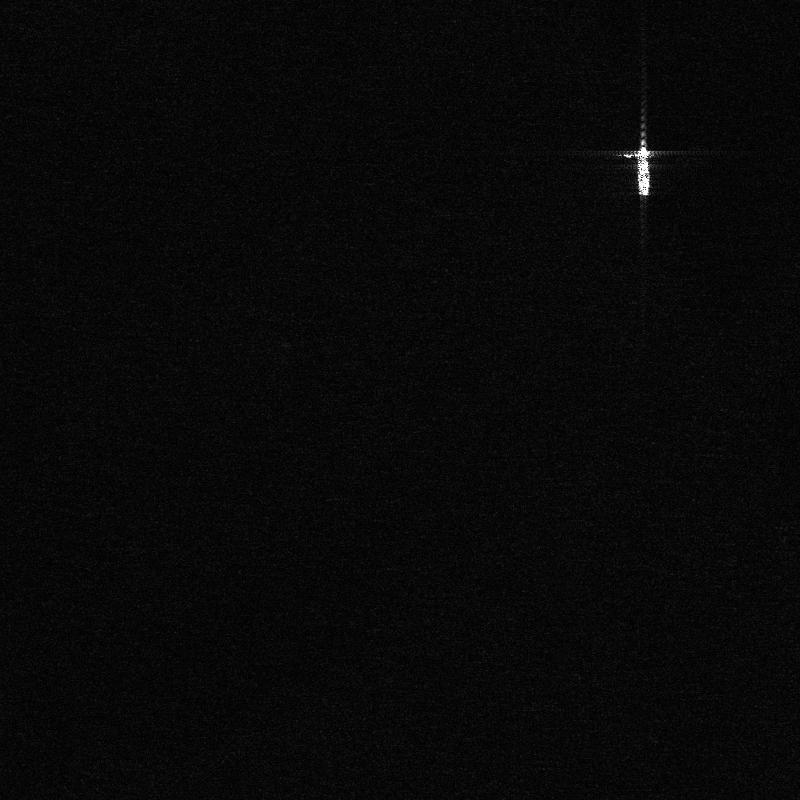ship: (637, 146, 650, 196)
